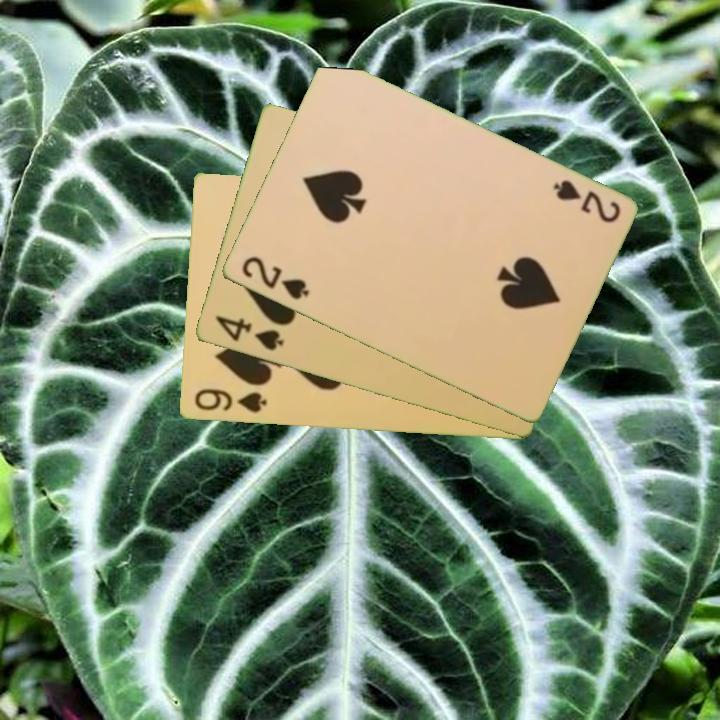2s: (549, 176, 623, 227), (237, 253, 311, 303)
4s: (211, 312, 286, 354)
9s: (190, 385, 269, 416)
